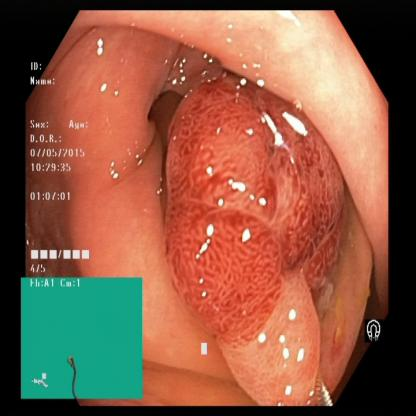Labels: (20, 278, 144, 398), (26, 59, 93, 277)
Polyps: (172, 89, 342, 313), (232, 316, 318, 404)
